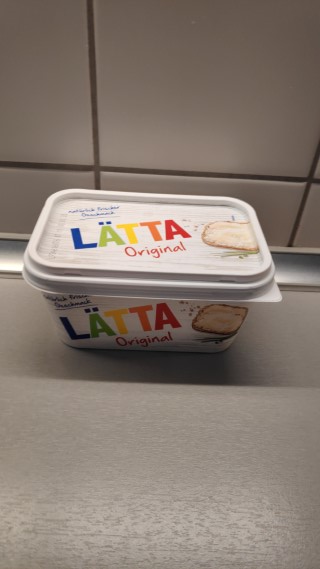laetta: (21, 186, 282, 354)
